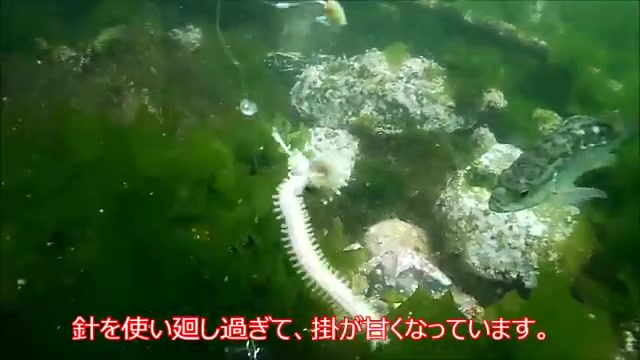mebaru: (483, 103, 629, 217)
